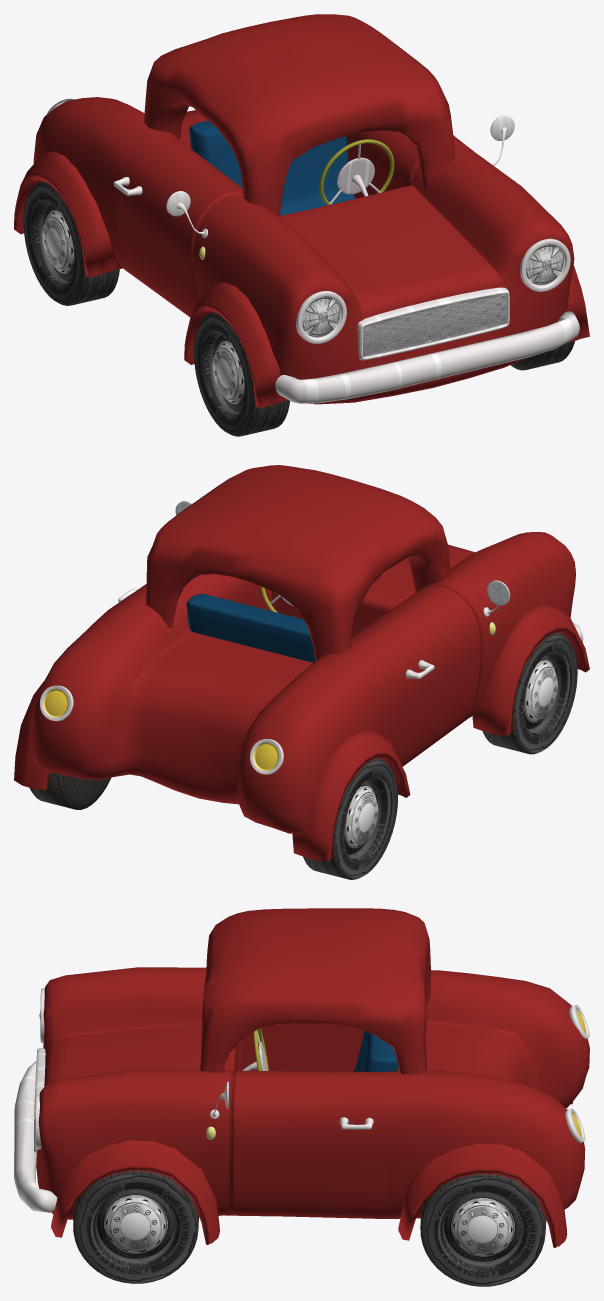
Rendered from car@idle.fbx.
The picture shows the model from 3 angles, top to bottom: view 1: azimuth 30°, elevation 25°; view 2: azimuth 150°, elevation 25°; view 3: azimuth 270°, elevation 25°; orthographic projection.
Visible parts, largest first — view 1: polySurface361, polySurface35, polySurface34, polySurface33; view 2: polySurface361, polySurface34, polySurface35, polySurface14; view 3: polySurface361, polySurface14, polySurface33.
Part boxes in pixels (box(x1,y1,x2,y2)): polySurface361: box(14, 14, 589, 408); polySurface35: box(23, 181, 119, 305); polySurface34: box(194, 312, 289, 436); polySurface33: box(510, 341, 574, 370); polySurface361: box(14, 465, 589, 861); polySurface34: box(482, 632, 577, 754); polySurface35: box(303, 758, 397, 879); polySurface14: box(29, 772, 110, 809); polySurface361: box(14, 908, 589, 1247); polySurface14: box(420, 1174, 546, 1286); polySurface33: box(73, 1171, 198, 1283).
Size of the model in its own units: 7.97 by 6.19 by 11.75.
